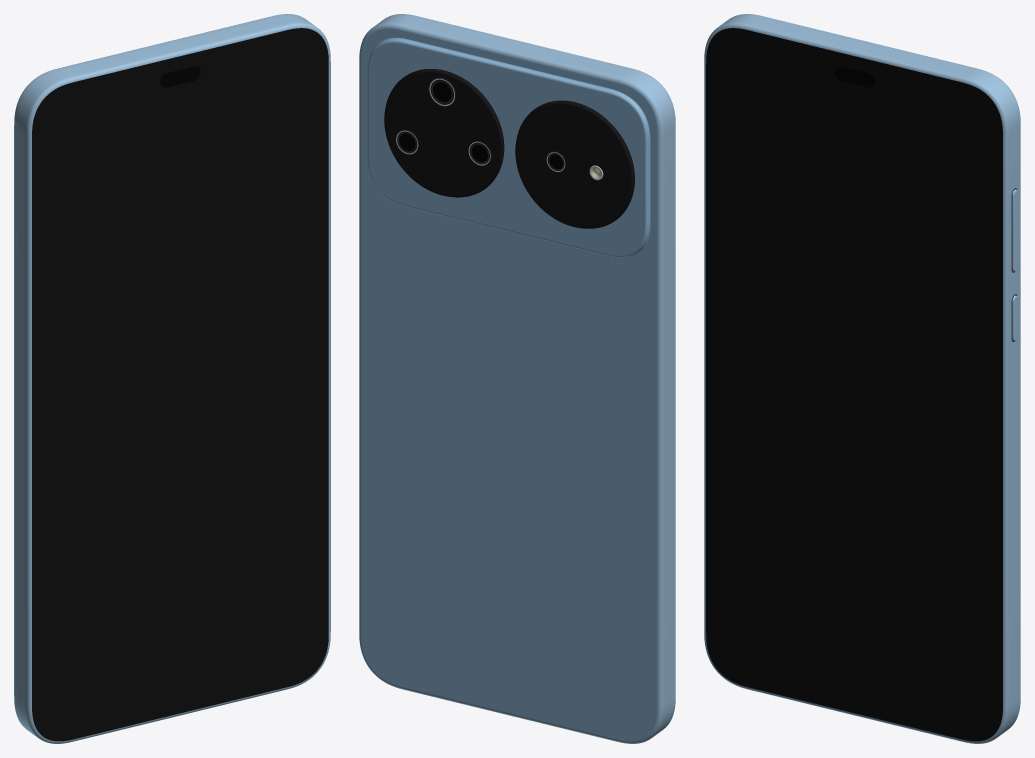
Rendered from huawei-nova-16s-pro.glb.
The picture shows the model from 3 angles, left to right: view 1: azimuth 30°, elevation 25°; view 2: azimuth 150°, elevation 25°; view 3: azimuth 330°, elevation 25°; orthographic projection.
Visible parts, largest first — view 1: body, punch; view 2: body, camera; view 3: body, buttons, punch.
Boxes of the visible parts, box(x1,y1,x2,y2) form: body: box(14, 14, 330, 743); punch: box(160, 66, 200, 87); body: box(359, 14, 675, 743); camera: box(367, 37, 650, 257); body: box(704, 14, 1020, 743); buttons: box(1011, 188, 1017, 341); punch: box(834, 66, 874, 87).
Bounding box in the file's own units: 78.43 × 163 × 9.28.
